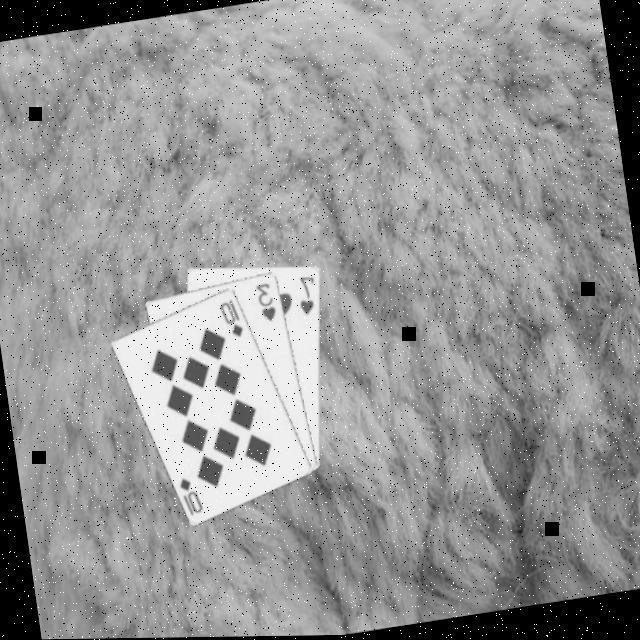10D: (177, 472, 208, 519), (217, 295, 248, 341)
3H: (254, 278, 282, 326)
7H: (296, 272, 324, 318)
